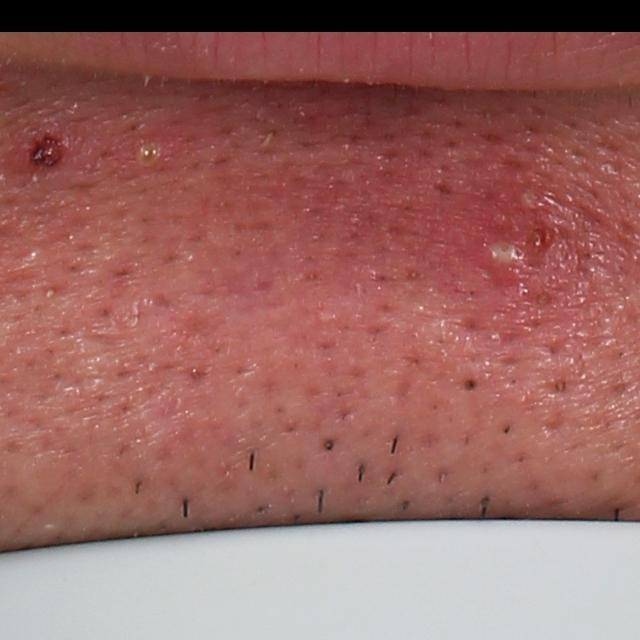pustule: (116, 115, 178, 177), (476, 227, 539, 288), (517, 182, 545, 214)
